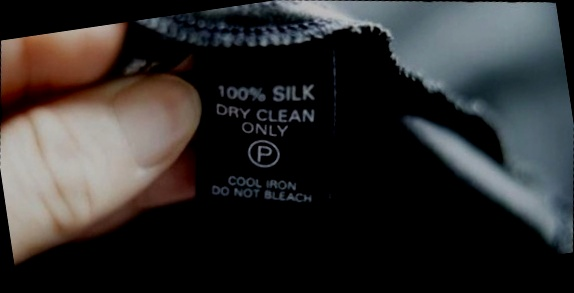dry_clean_any_solvent_except_trichloroethylene: (244, 133, 286, 173)
